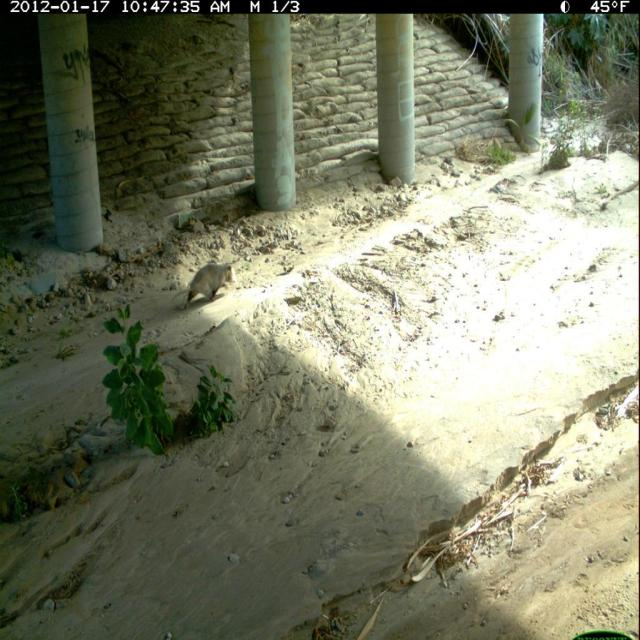opossum: (165, 258, 241, 315)
